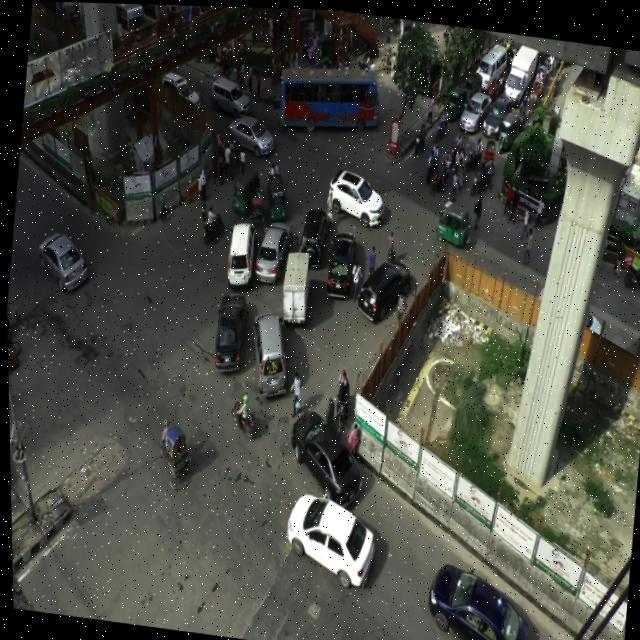cng: (431, 197, 478, 253), (227, 164, 260, 217), (260, 169, 291, 225), (498, 106, 521, 156), (444, 78, 465, 122), (463, 67, 486, 106)
rikshaw: (146, 410, 193, 495), (450, 142, 469, 187), (379, 38, 403, 69), (480, 136, 496, 171), (528, 77, 543, 109)
